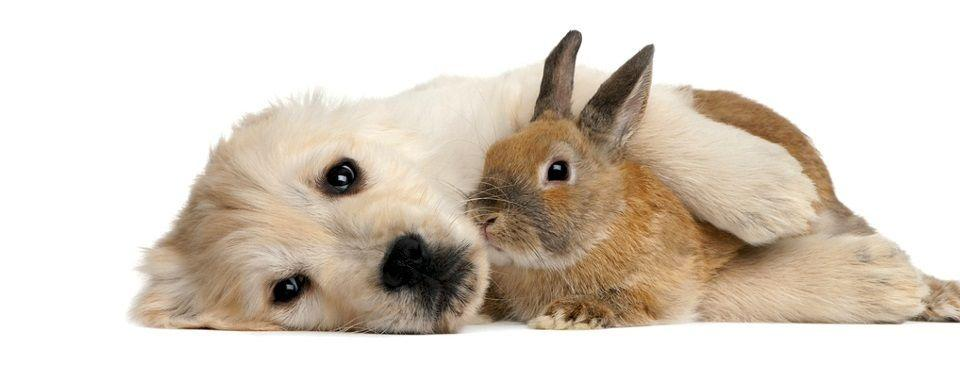non-dog: (466, 27, 960, 330)
puppy-dog: (121, 41, 827, 333)
